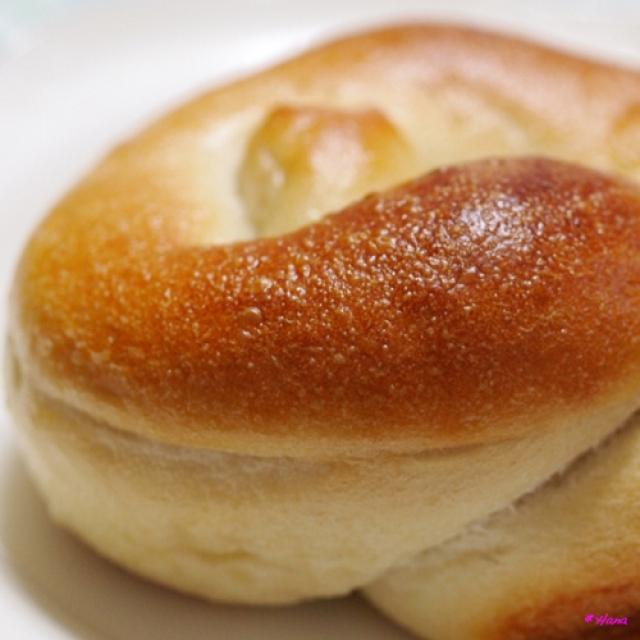面包点心: (27, 13, 621, 623)
